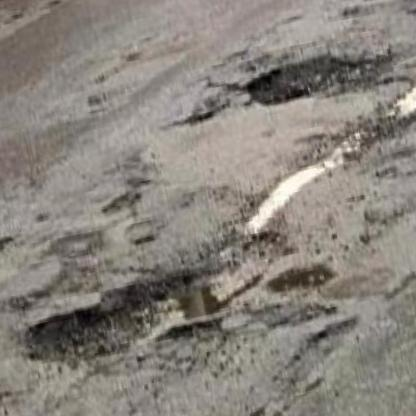pothole: (9, 215, 308, 380), (239, 37, 403, 118)
